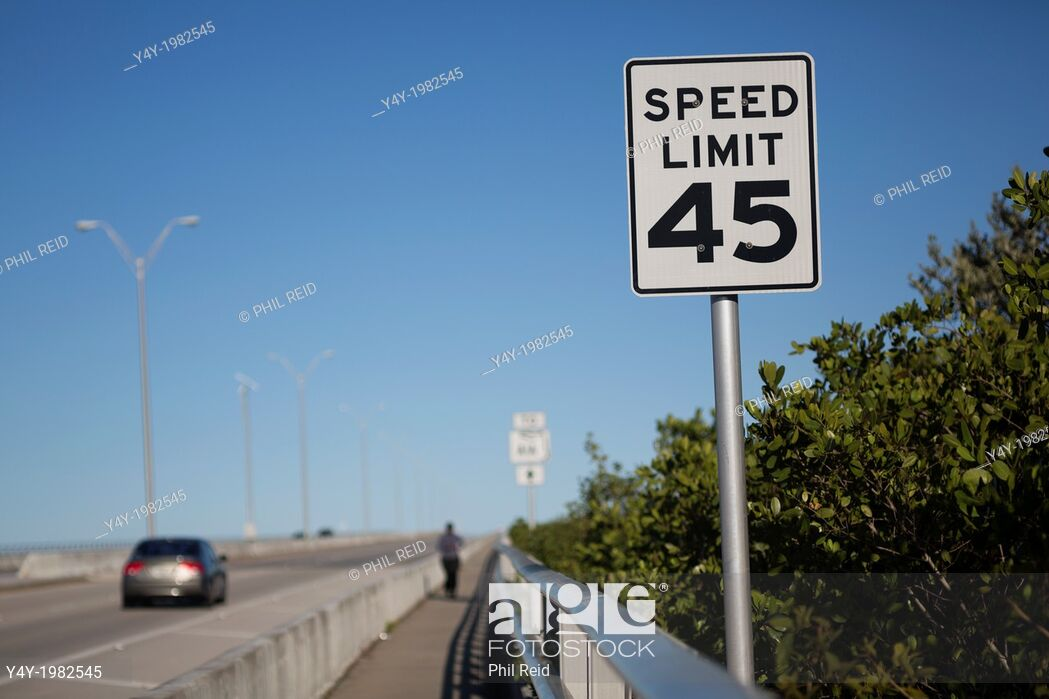speed limit: (601, 15, 839, 328)
